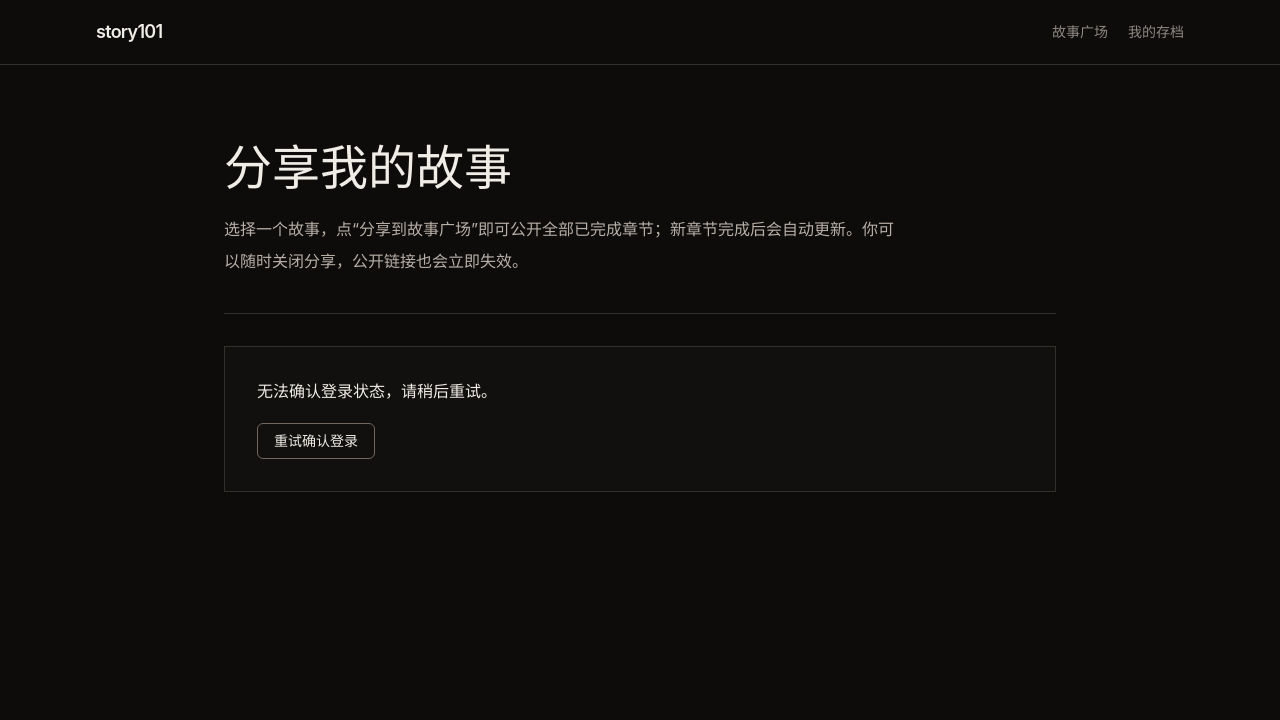
offers an authentication retry after a network failure instead of claiming logout
Expected: the message shows "无法确认登录状态", x1=257 y1=381 x2=497 y2=401
Click the button "重试确认登录": (316, 441) x1=257 y1=423 x2=375 y2=459
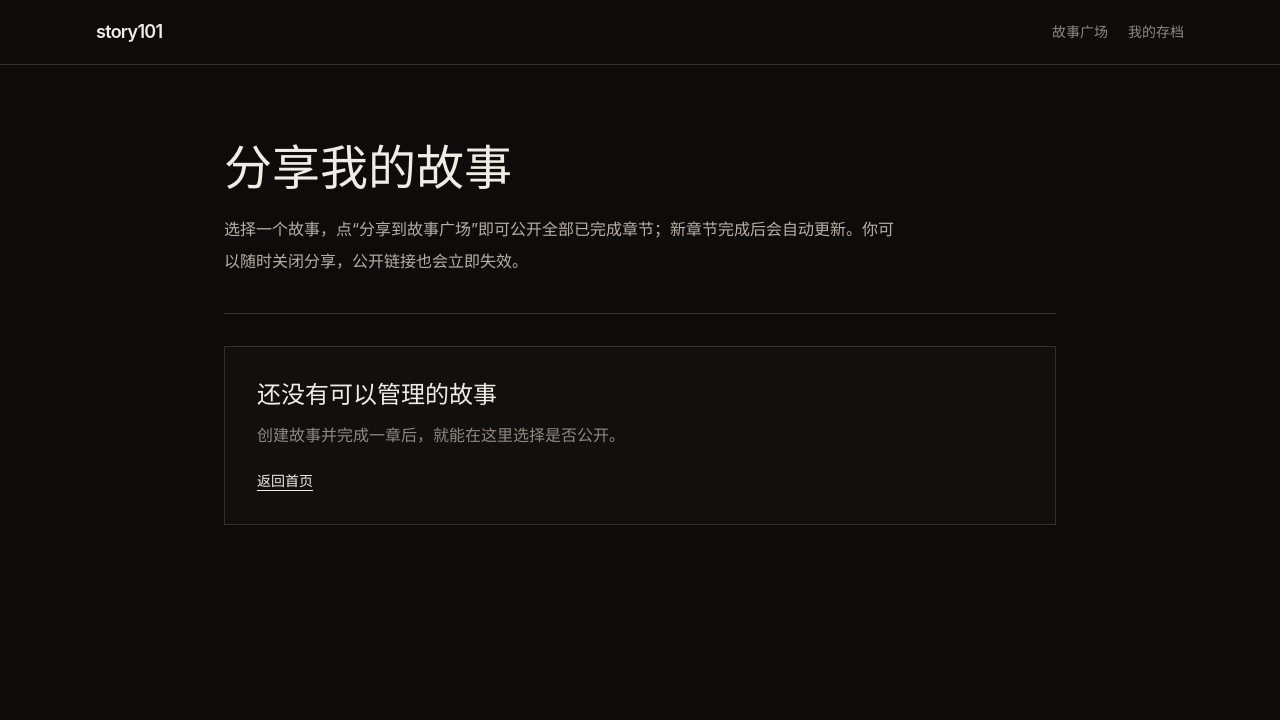
Now the heading "还没有可以管理的故事" is shown, box x1=257 y1=382 x2=497 y2=408
